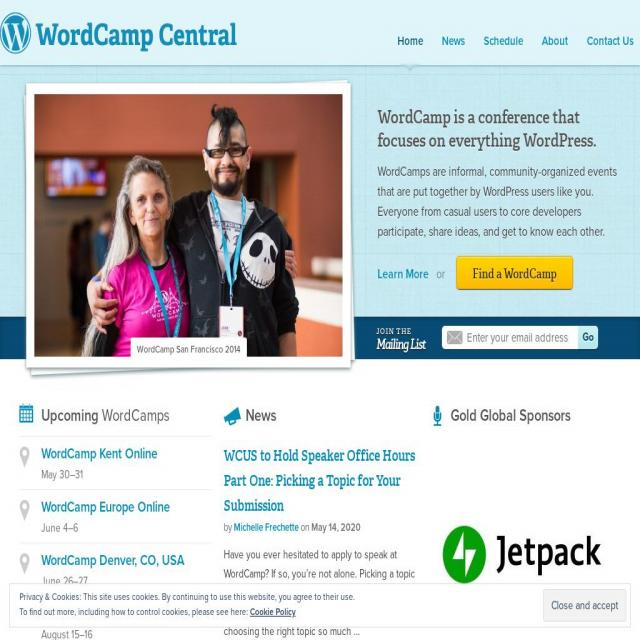field: (374, 316, 604, 356)
navigation-links: (390, 33, 640, 55)
